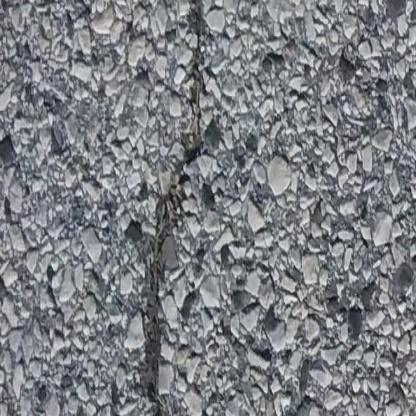Cracks: (127, 0, 213, 416)
